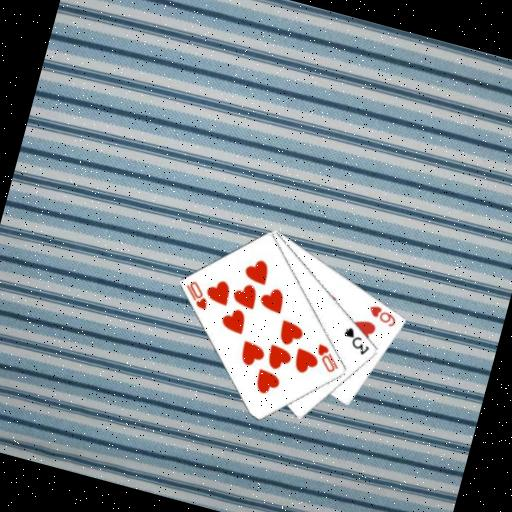10H: (308, 339, 345, 376), (178, 275, 214, 311)
3S: (336, 322, 375, 357)
6H: (363, 301, 400, 329)
